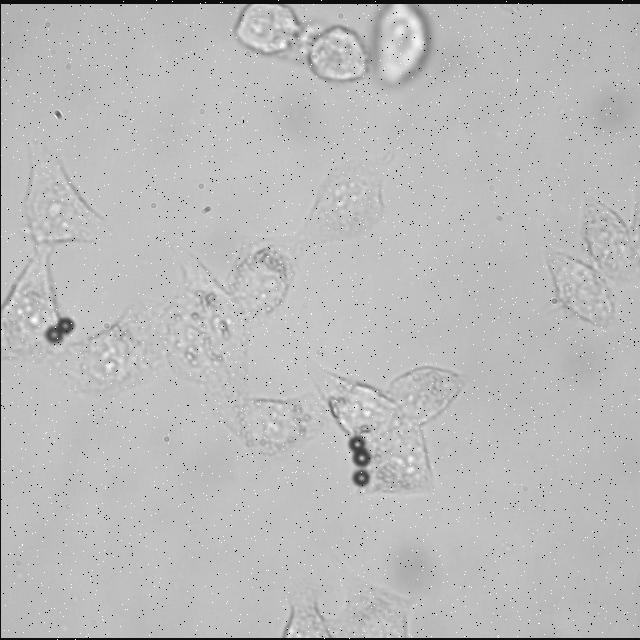microbeads: (55, 317, 73, 335), (351, 450, 371, 466), (349, 438, 363, 454), (352, 471, 366, 487), (44, 328, 60, 342)
